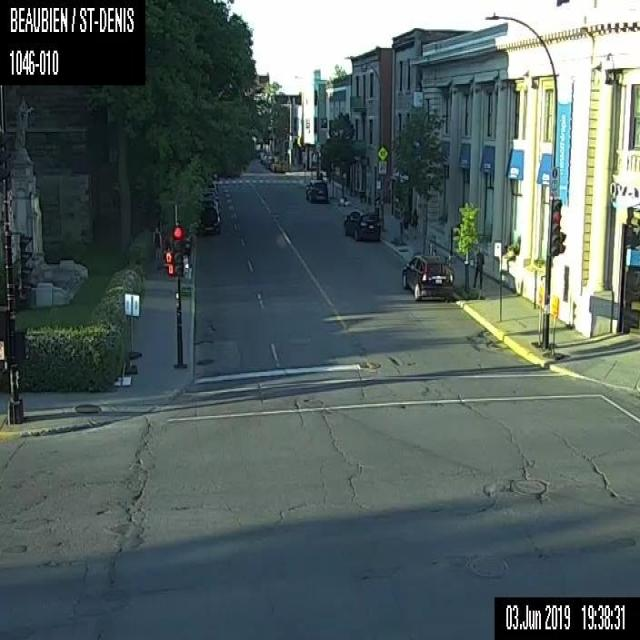construction: (541, 294, 563, 358), (531, 282, 544, 347)
pedestrian: (471, 245, 484, 288), (151, 222, 161, 258), (411, 205, 418, 236)
vehicle: (399, 251, 455, 301), (342, 206, 380, 242), (195, 204, 220, 235), (303, 176, 327, 203), (269, 155, 285, 173)
